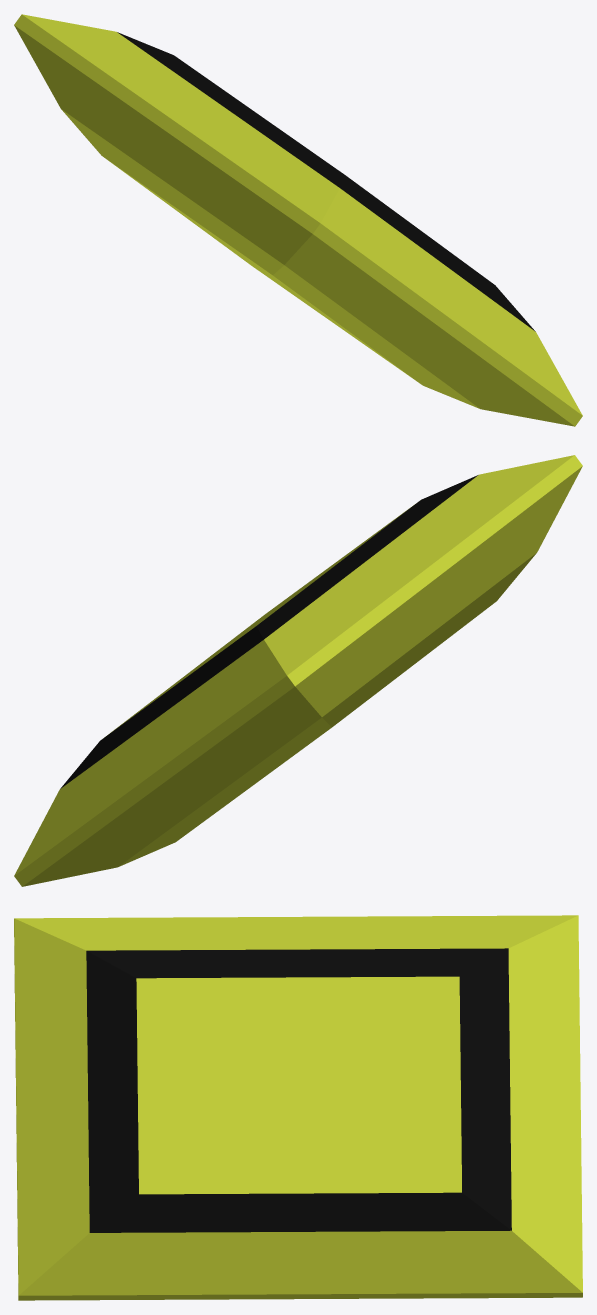
The model's file is BigPillow_Material.fbx.
The picture shows the model from 3 angles, top to bottom: view 1: azimuth 30°, elevation 25°; view 2: azimuth 150°, elevation 25°; view 3: azimuth 270°, elevation 25°; orthographic projection. The views are drawn at different scales.
Parts seen in each view (by area): view 1: BedPillow.001; view 2: BedPillow.001; view 3: BedPillow.001.
Boxes of the visible parts, x1,y1,x2,y2 form: BedPillow.001: (14,14,582,426); BedPillow.001: (14,455,582,886); BedPillow.001: (14,915,582,1300).
Bounding box in the file's own units: 0.2887 × 0.2639 × 0.5202.
